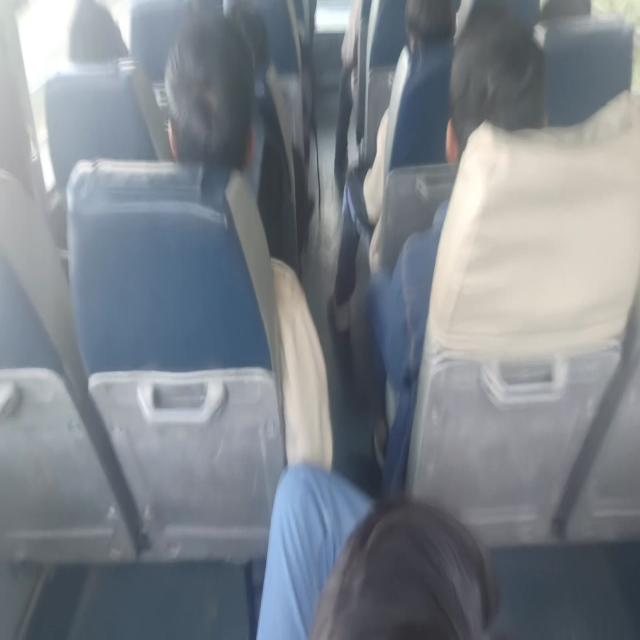person: (302, 496, 505, 640), (442, 26, 540, 178), (164, 26, 258, 183), (199, 0, 269, 97), (59, 0, 134, 69), (402, 0, 458, 58), (544, 0, 595, 33)
